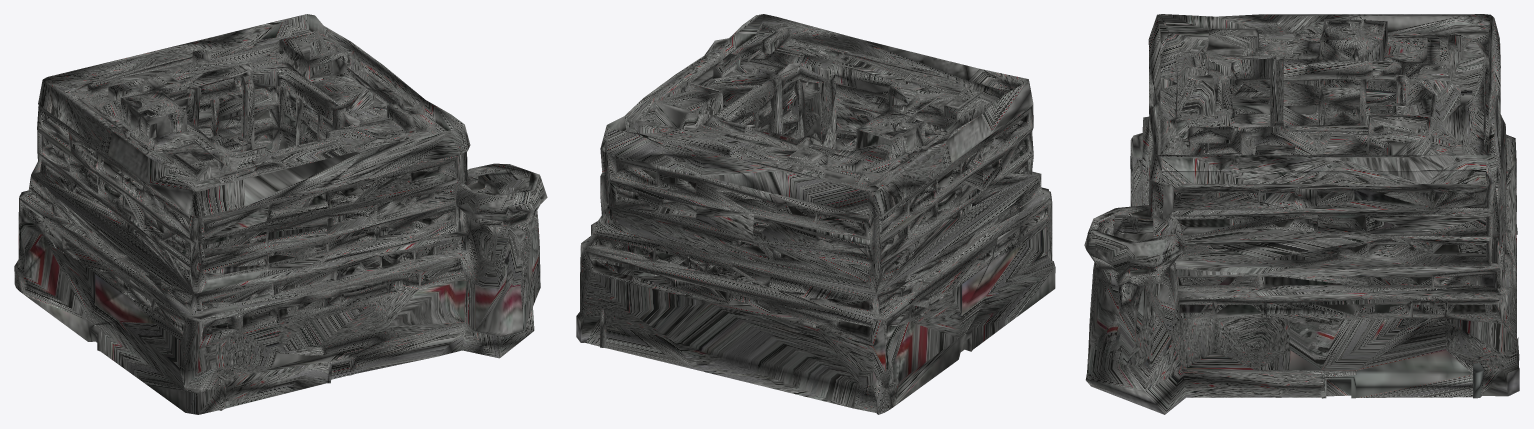
Rendered from lothalblock.lod1.glb.
3 renders of one model, left to right at view 1: azimuth 30°, elevation 25°; view 2: azimuth 150°, elevation 25°; view 3: azimuth 270°, elevation 25°, orthographic. The views are drawn at different scales.
Visible parts, largest first — view 1: lothalblock-centred; view 2: lothalblock-centred; view 3: lothalblock-centred.
Part boxes in pixels (x1,y1,x2,y2): lothalblock-centred: (14,14,547,414); lothalblock-centred: (576,14,1055,414); lothalblock-centred: (1084,14,1519,414).
Bounding box in the file's own units: 39.37 × 24 × 38.61.
Materials: 1 (1 with a texture image).
